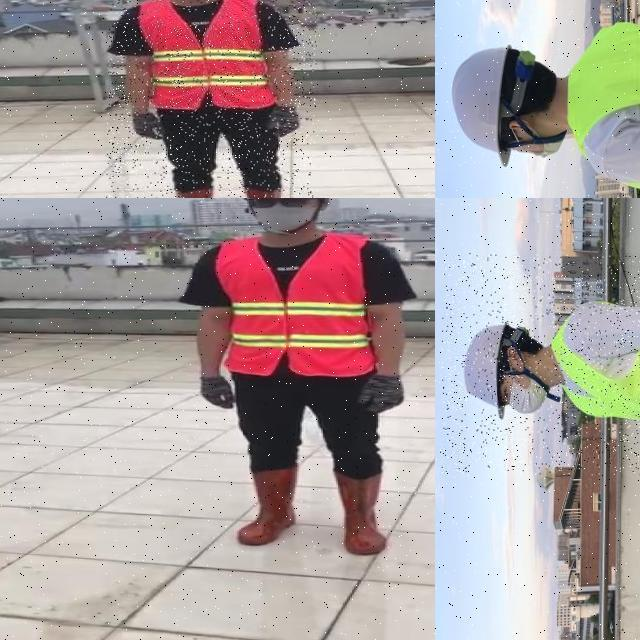boots: (234, 468, 300, 547), (335, 472, 389, 558), (242, 185, 298, 198), (167, 184, 218, 198)
helmet: (438, 32, 523, 188), (458, 314, 514, 426)
vest: (209, 230, 376, 378), (136, 0, 276, 110), (559, 11, 640, 186), (551, 300, 640, 426)
